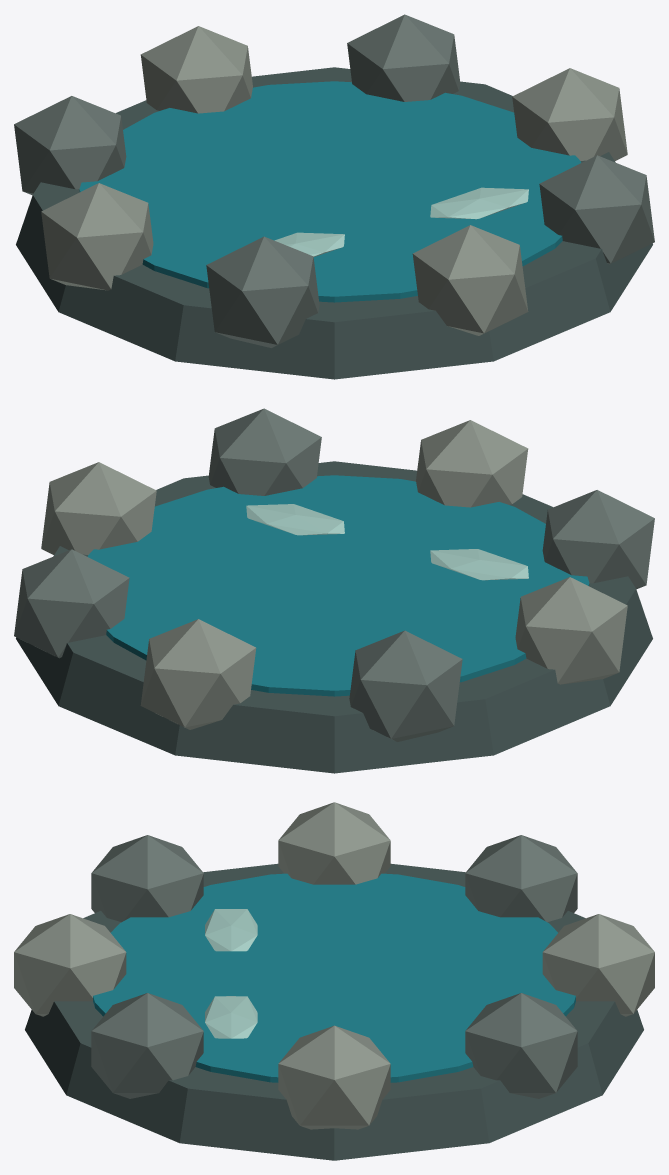
Rendered from PirateCove_TidePoolRocks_Standard.glb.
3 renders of one model, top to bottom at view 1: azimuth 30°, elevation 25°; view 2: azimuth 150°, elevation 25°; view 3: azimuth 270°, elevation 25°, orthographic. The views are drawn at different scales.
Visible parts, largest first — view 1: PirateCove_TidePoolRocks_Standard; view 2: PirateCove_TidePoolRocks_Standard; view 3: PirateCove_TidePoolRocks_Standard.
Boxes of the visible parts, box(x1,y1,x2,y2) form: PirateCove_TidePoolRocks_Standard: box(14, 14, 654, 379); PirateCove_TidePoolRocks_Standard: box(14, 408, 654, 773); PirateCove_TidePoolRocks_Standard: box(14, 802, 654, 1160).
Bounding box in the file's own units: 3.1 × 0.62 × 3.1.
